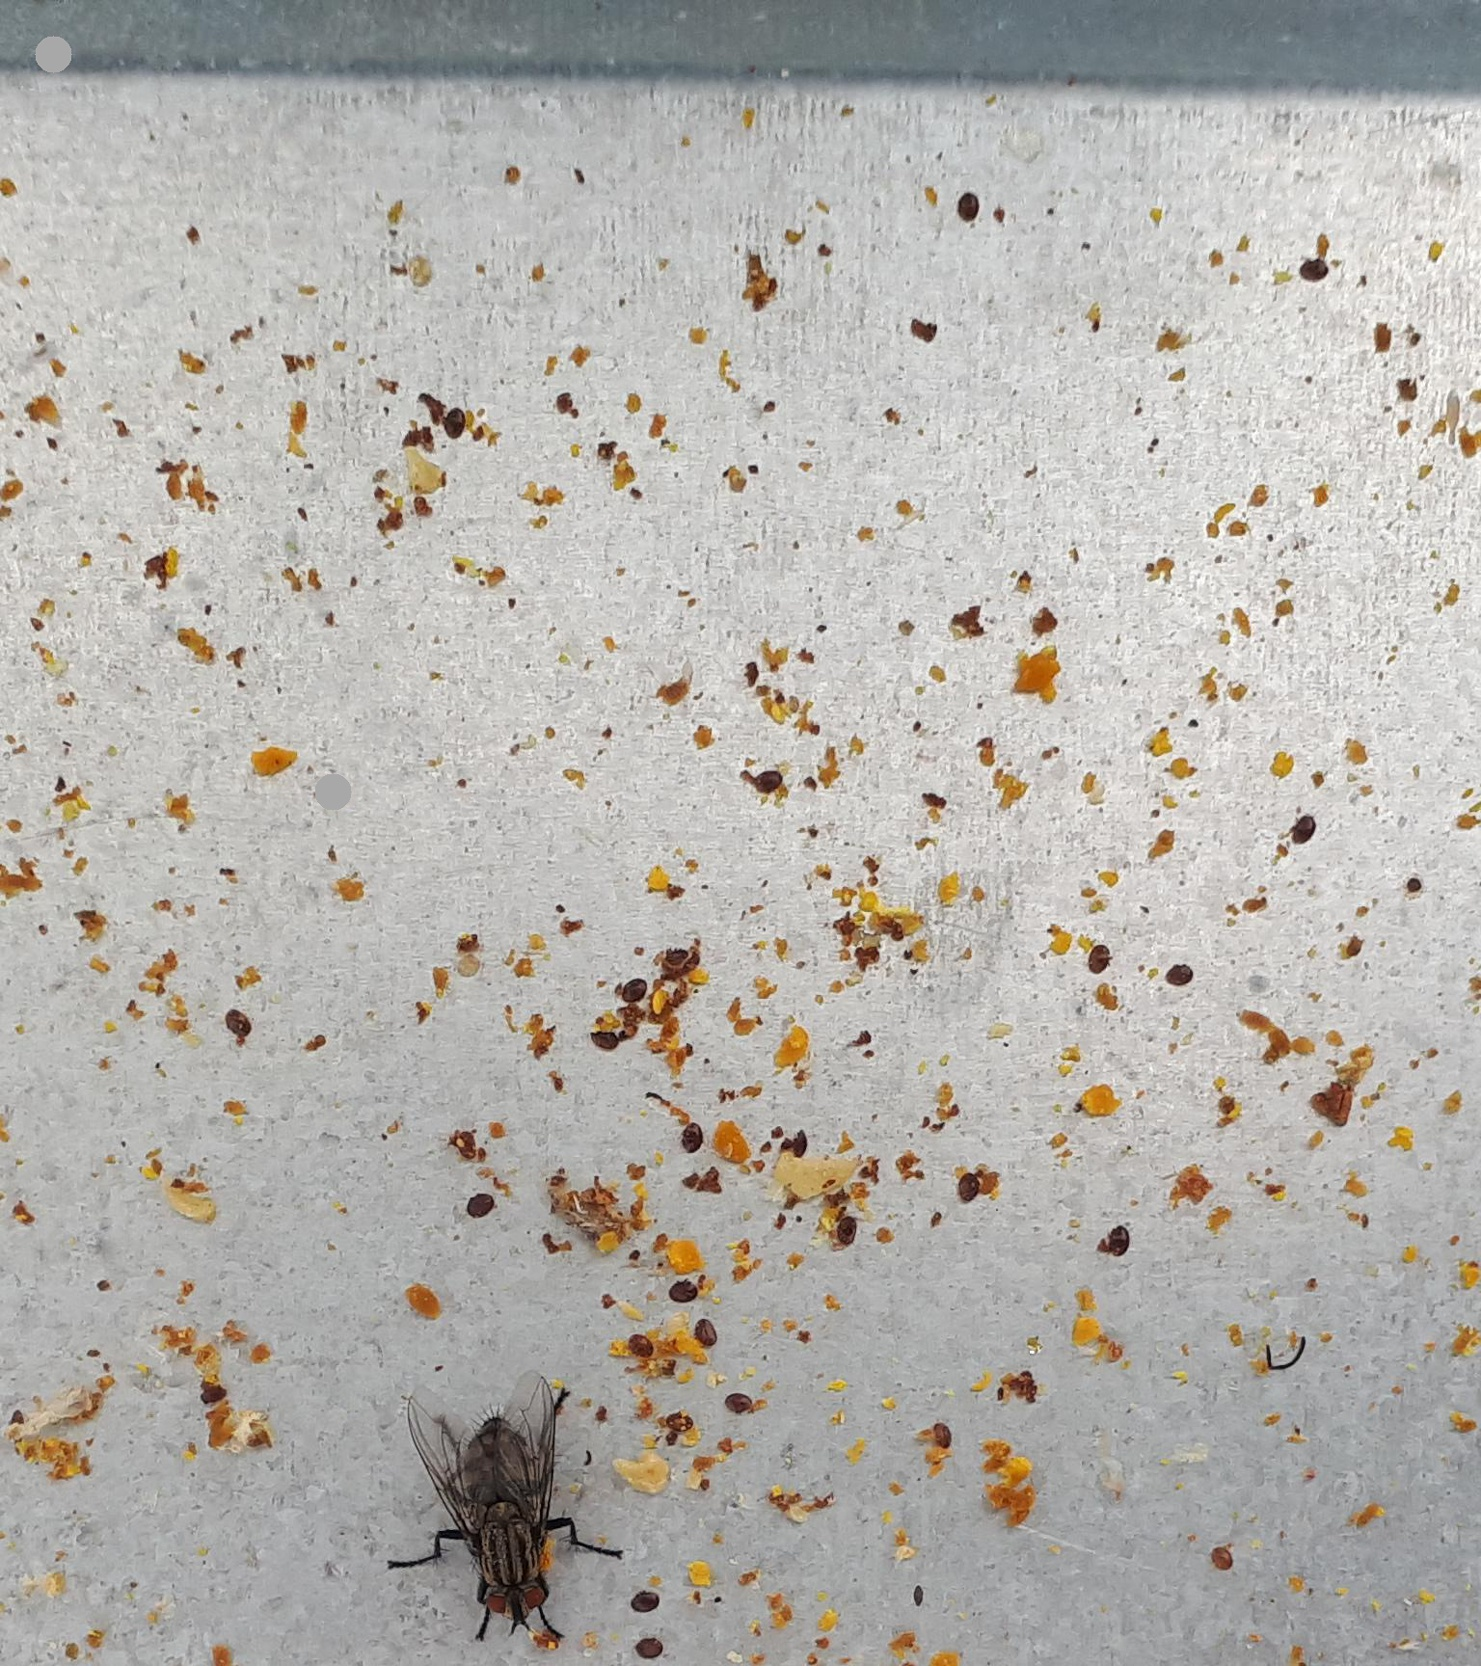Varroa: (193, 1371, 232, 1411), (659, 1401, 699, 1440), (620, 1321, 660, 1359), (633, 1622, 668, 1656), (590, 1025, 623, 1061), (1096, 1228, 1134, 1260), (1282, 812, 1315, 847), (751, 767, 783, 799), (1207, 1537, 1238, 1572), (222, 1010, 253, 1041), (1082, 944, 1112, 975), (630, 1582, 660, 1613), (660, 944, 690, 975), (722, 1389, 752, 1419), (440, 408, 470, 438), (457, 1186, 487, 1216), (1164, 960, 1192, 991), (1297, 252, 1325, 283), (618, 978, 646, 1008), (832, 1216, 861, 1246), (693, 1318, 722, 1349), (923, 1421, 954, 1450), (956, 199, 985, 227), (666, 1276, 695, 1304), (678, 1125, 705, 1153), (954, 1178, 981, 1206), (783, 1133, 811, 1160), (673, 1293, 702, 1318)
